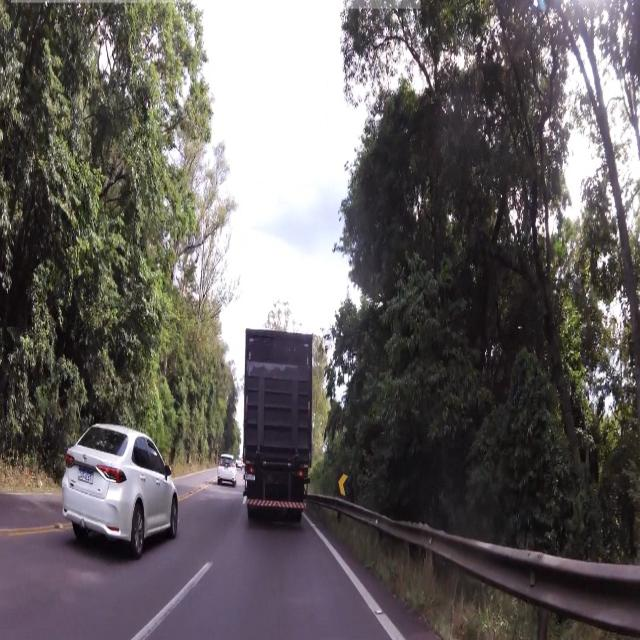Del: (338, 464, 350, 500)
